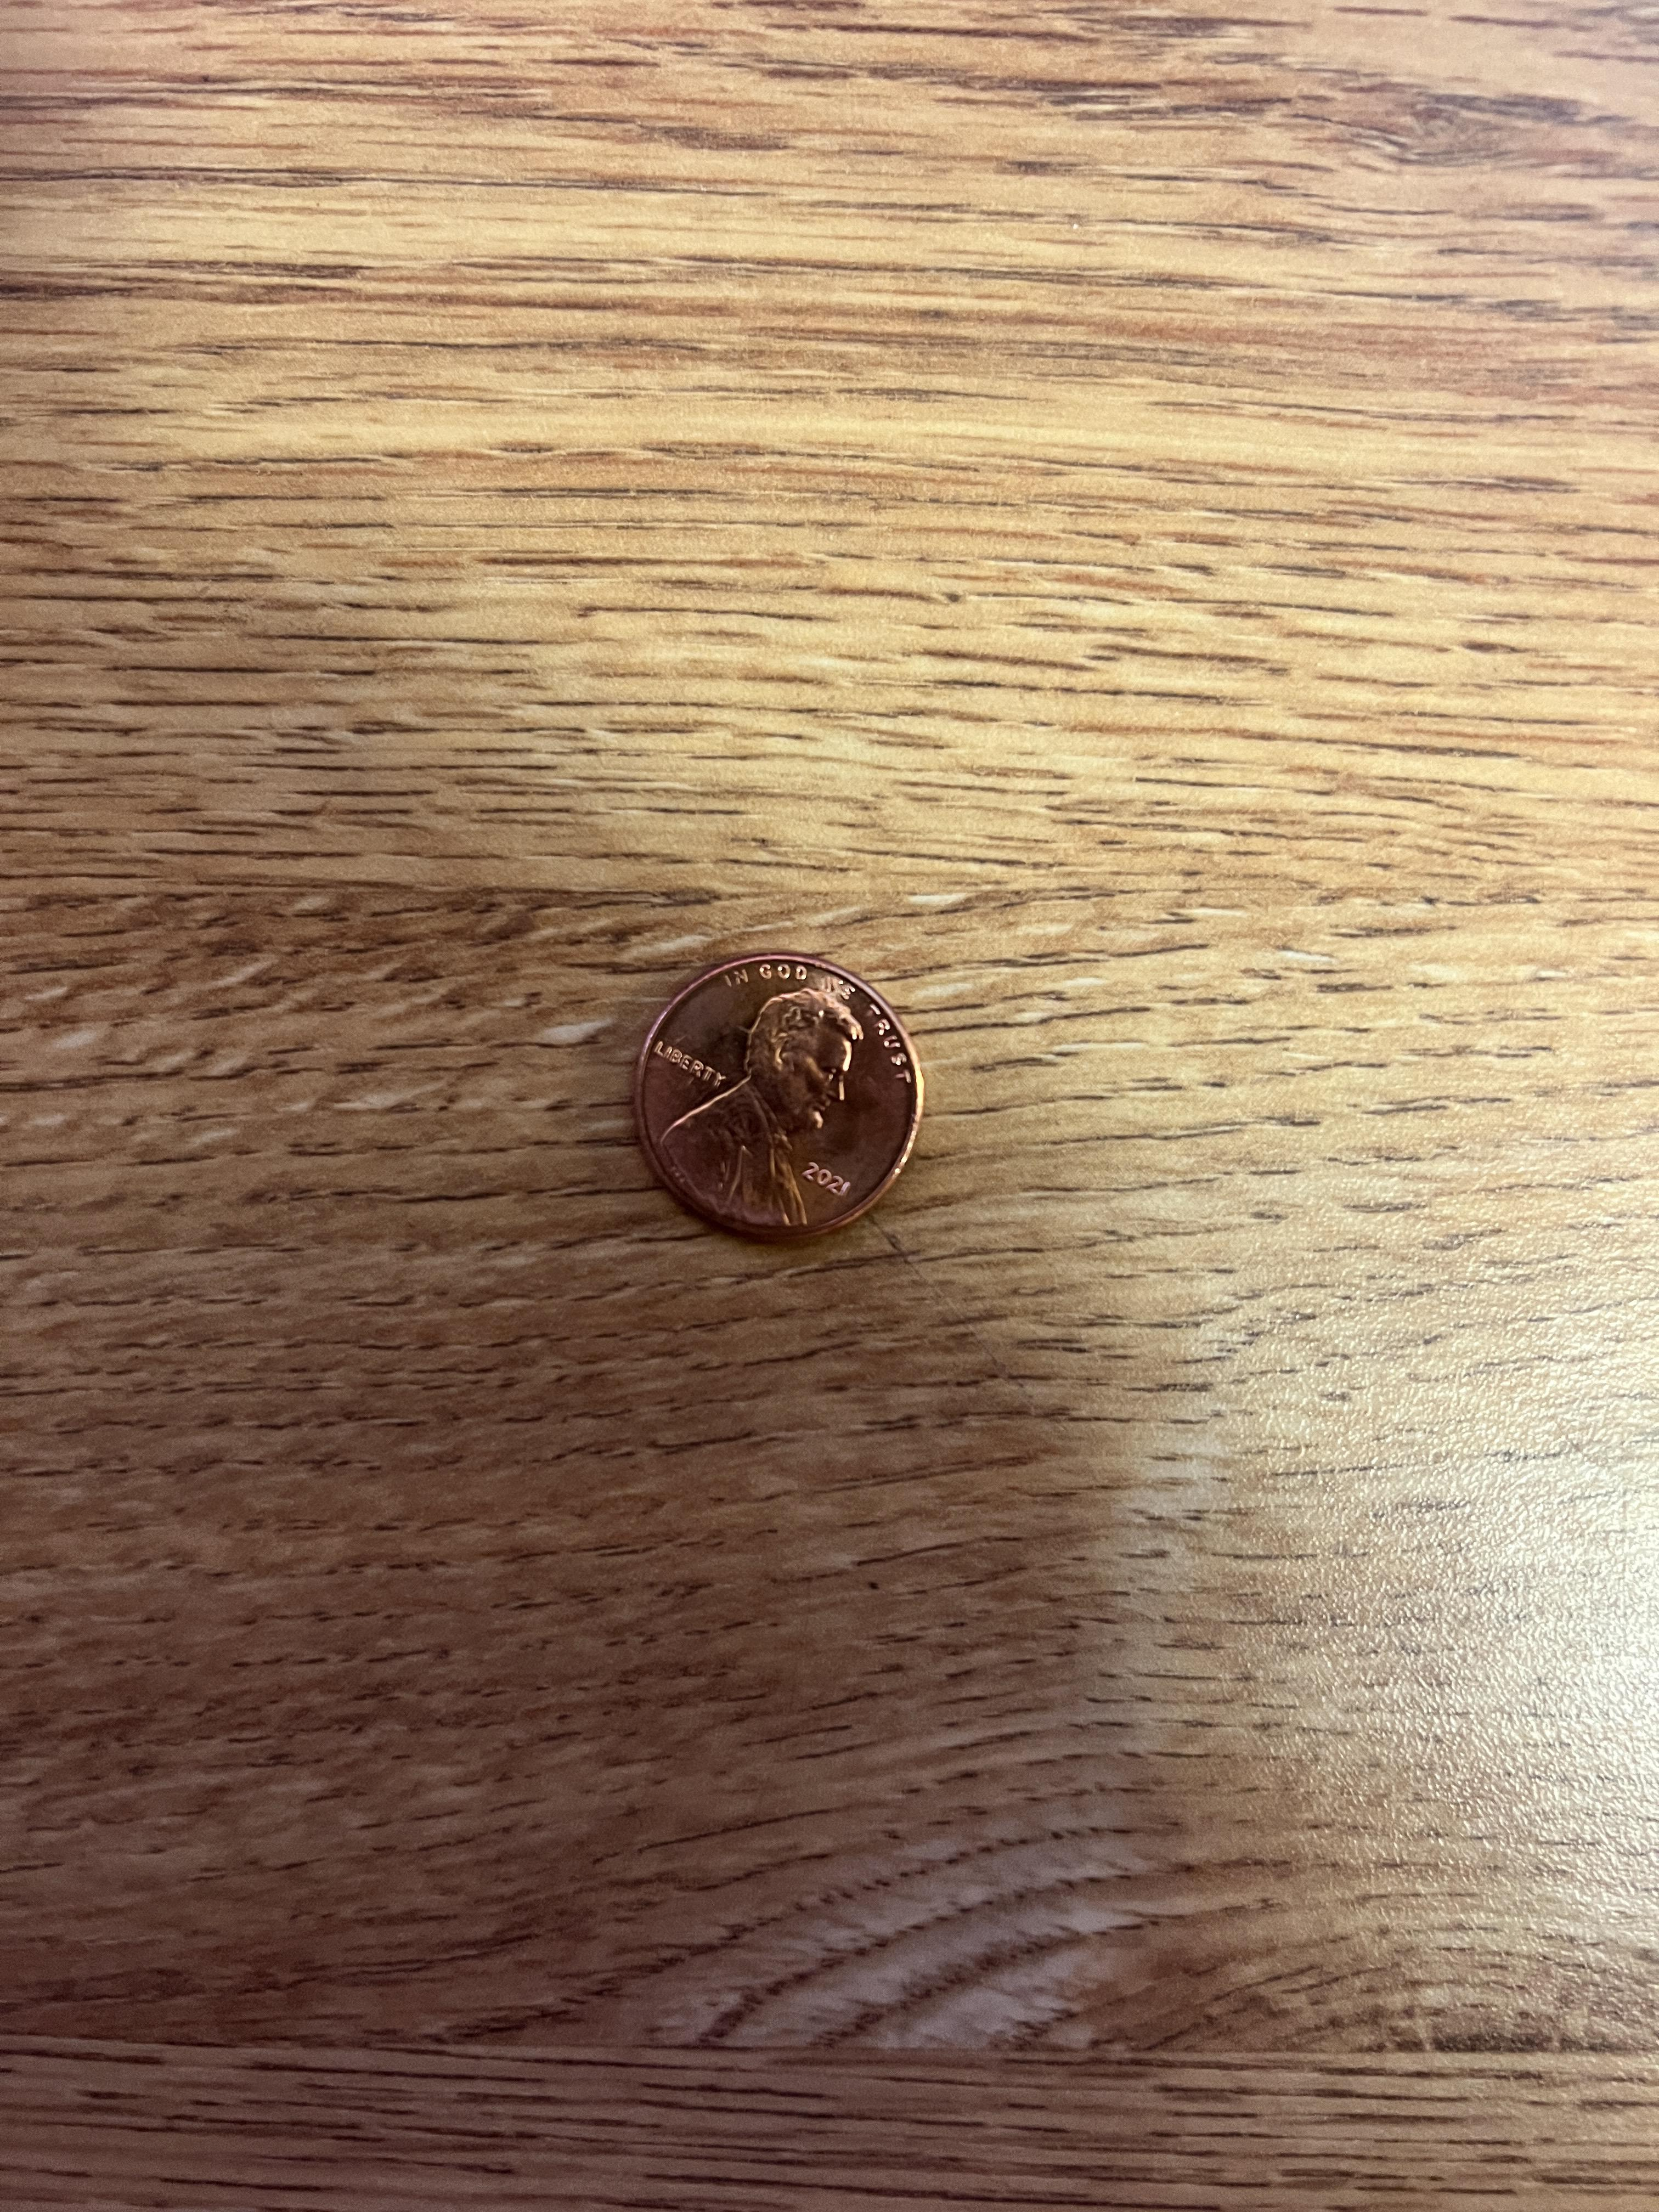Penny: (617, 942, 934, 1245)
